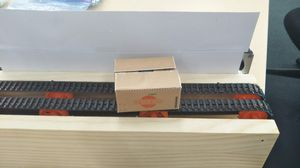box1: (111, 54, 182, 113)
